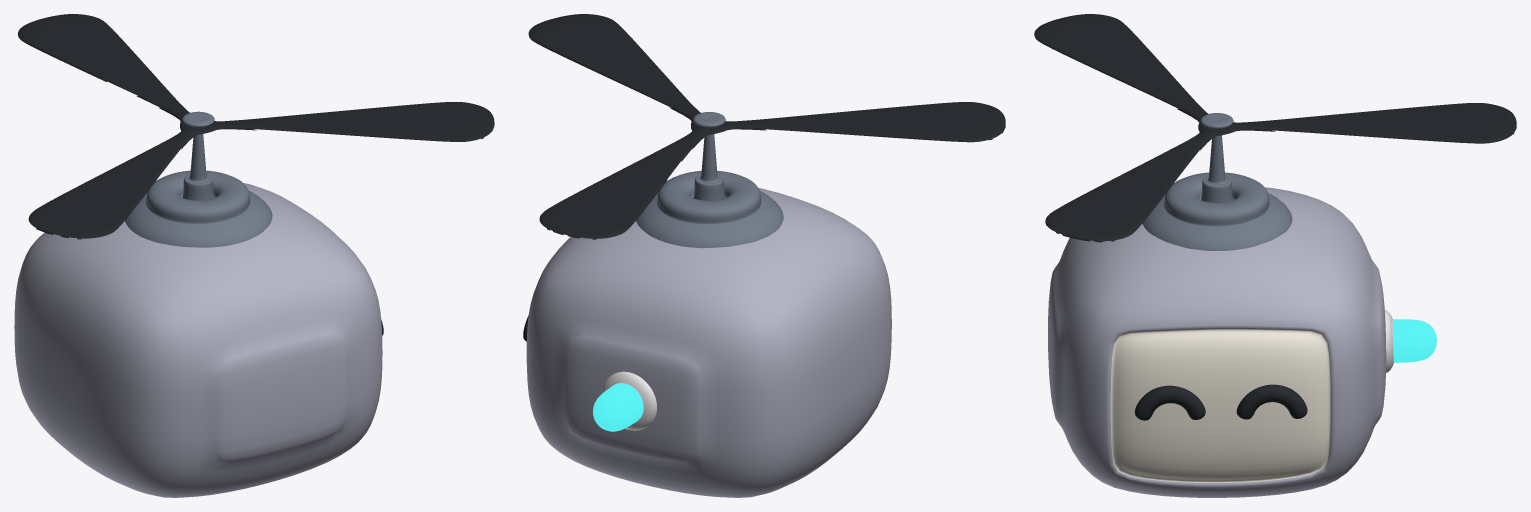
File: holographicBot.glb
3 renders of one model, left to right at view 1: azimuth 30°, elevation 25°; view 2: azimuth 150°, elevation 25°; view 3: azimuth 270°, elevation 25°, orthographic.
Visible parts, largest first — view 1: Bot, Circle.026, Circle.025; view 2: Bot, Circle.026, Circle.025, Circle.024; view 3: Bot, Circle.026, Circle.025, Circle.027, Circle.024.
Part boxes in pixels (left/top/right/bottom): Bot: left=14, top=183, right=382, bottom=497; Circle.026: left=17, top=14, right=494, bottom=239; Circle.025: left=125, top=111, right=272, bottom=247; Bot: left=526, top=188, right=891, bottom=497; Circle.026: left=528, top=14, right=1005, bottom=239; Circle.025: left=636, top=112, right=783, bottom=248; Circle.024: left=593, top=371, right=656, bottom=431; Bot: left=1048, top=187, right=1386, bottom=497; Circle.026: left=1034, top=14, right=1516, bottom=242; Circle.025: left=1142, top=113, right=1292, bottom=250; Circle.027: left=1134, top=384, right=1307, bottom=420; Circle.024: left=1384, top=309, right=1436, bottom=372.
Bounding box in the file's own units: 1.11 × 0.7759 × 0.9977.
